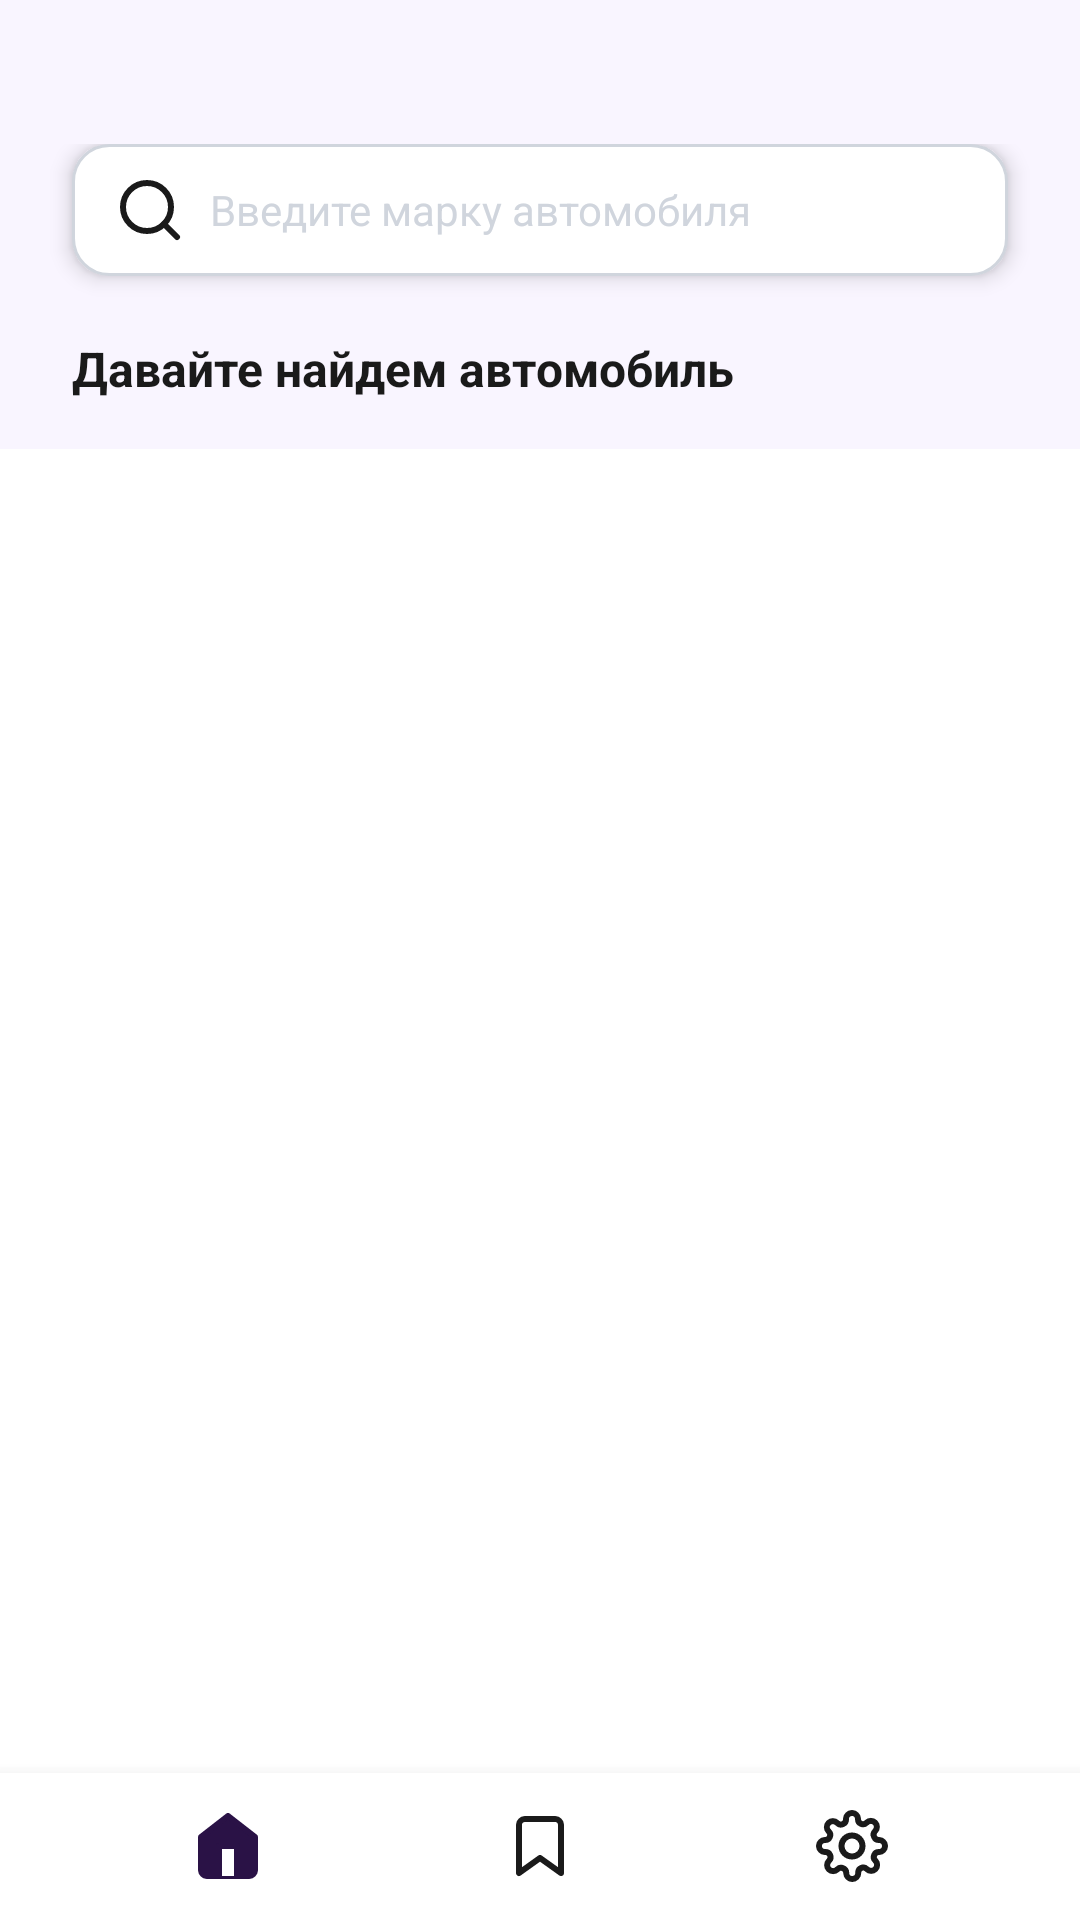

Point at icon controls on the screen. Image size 1080×1920, points as (x=x, y=y).
bookmark: (x=540, y=1846)
home: (x=228, y=1846)
search: (x=150, y=210)
settings: (x=852, y=1846)
